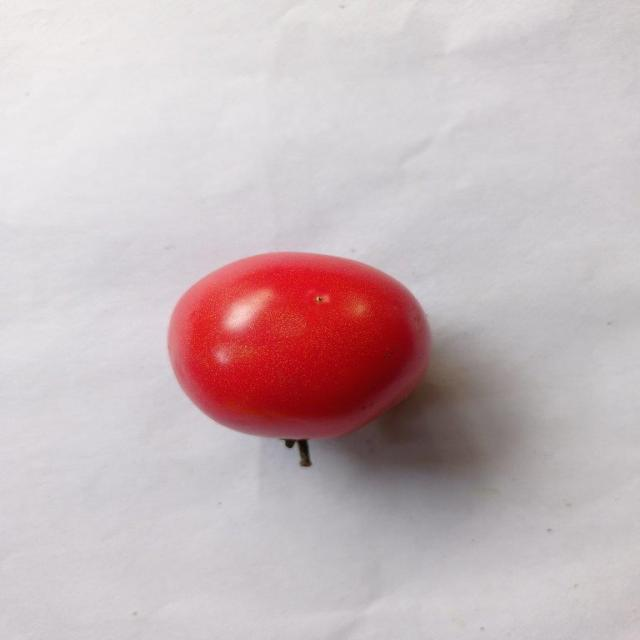Tomato: (161, 246, 433, 473)
